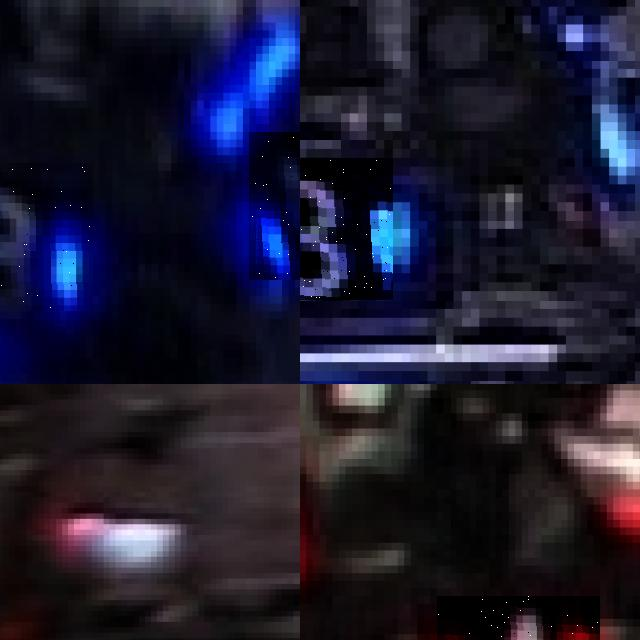B3: (0, 162, 93, 311), (300, 158, 393, 300), (249, 131, 300, 280)
R4: (436, 596, 600, 640)
